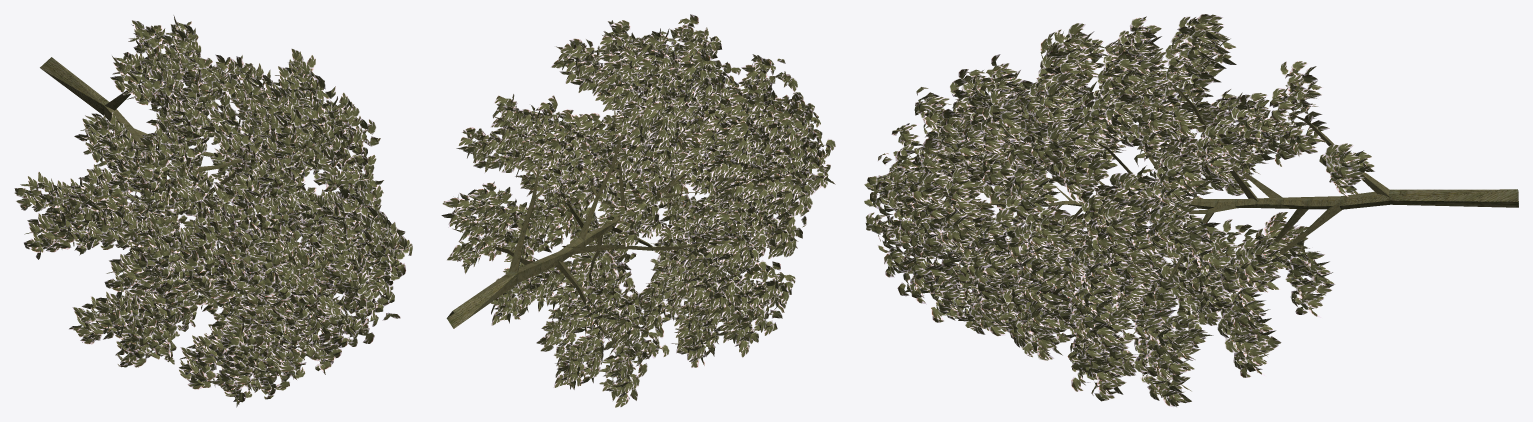
File: Tree6.dae
3 views of the same model, side by side, from view 1: azimuth 30°, elevation 25°; view 2: azimuth 150°, elevation 25°; view 3: azimuth 270°, elevation 25° (orthographic). The views are drawn at different scales.
Parts seen in each view (by area): view 1: node; view 2: node; view 3: node.
Boxes of the visible parts, x1,y1,x2,y2 form: node: (14, 15, 412, 407); node: (441, 14, 835, 407); node: (864, 14, 1518, 407).
Bounding box in the file's own units: 3.59 × 3.55 × 5.88.
2 materials, 2 textured.
